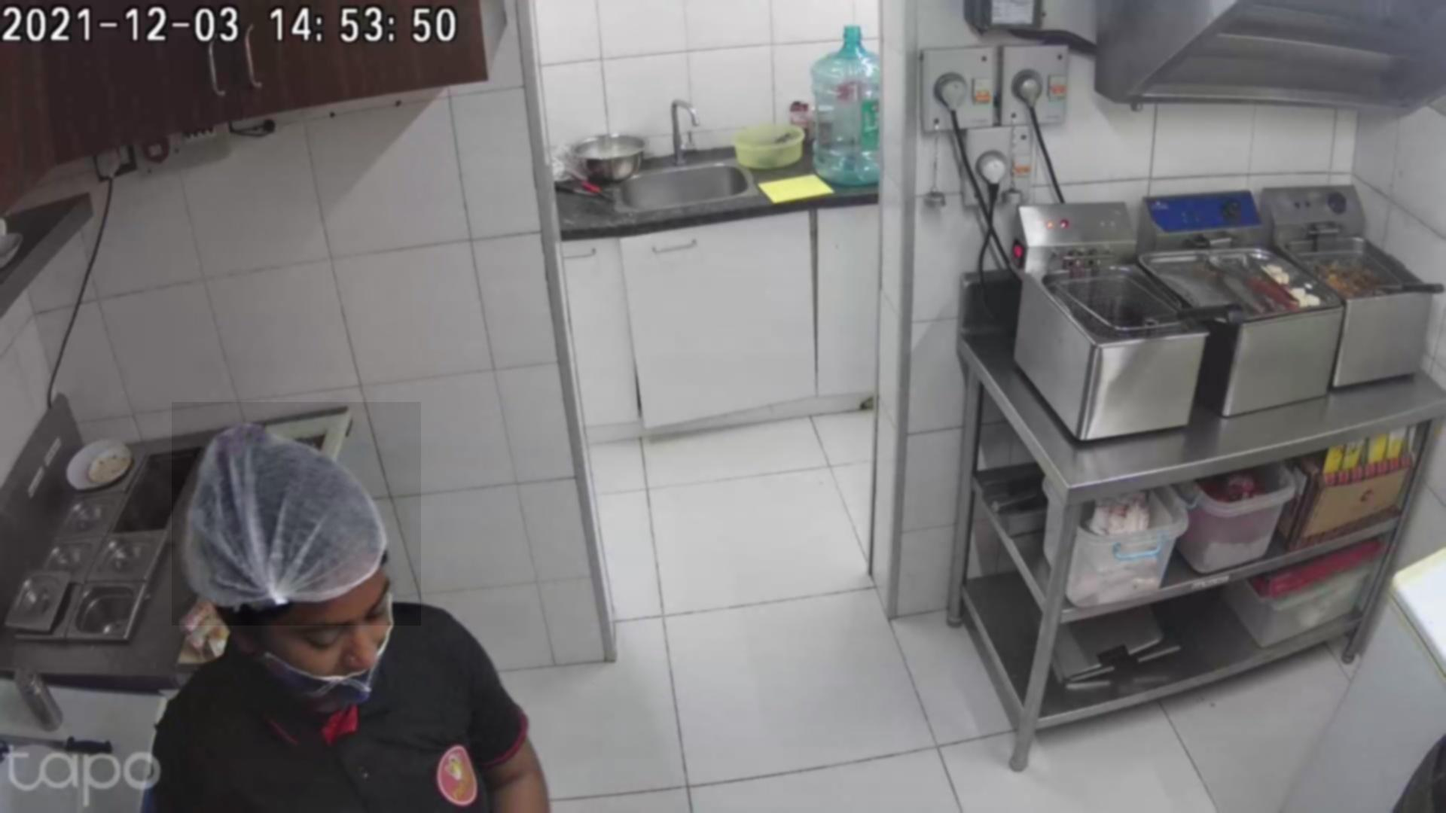gloves: (172, 402, 421, 626)
no_hairnet: (249, 606, 398, 707)
